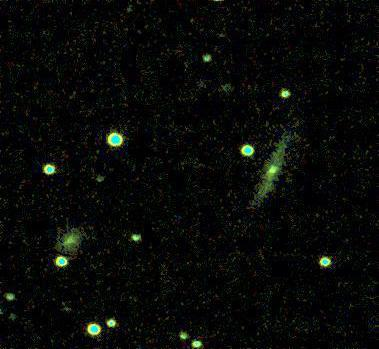star: (256, 152, 286, 182)
